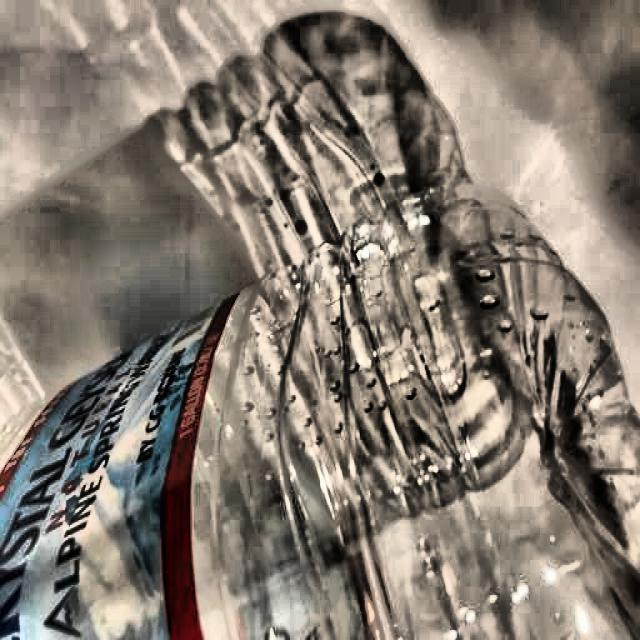plastic: (0, 214, 640, 640)
